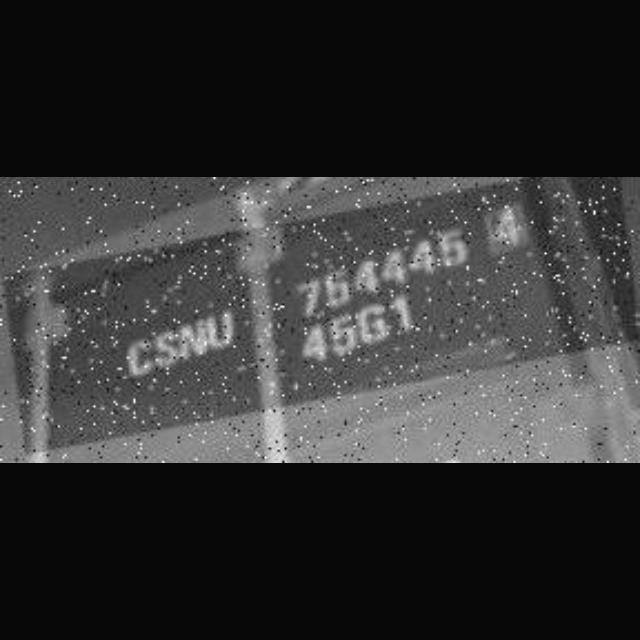1: (388, 291, 420, 341)
4: (484, 200, 526, 256), (377, 240, 409, 294), (298, 320, 332, 370), (351, 255, 381, 301), (408, 233, 436, 280)
5: (436, 225, 472, 272), (326, 313, 360, 361)
6: (323, 264, 352, 312)
7: (296, 275, 324, 321)
c: (125, 333, 157, 383)
g: (357, 301, 389, 347)
n: (178, 314, 210, 364)
s: (152, 324, 180, 372)
u: (207, 308, 236, 356)
